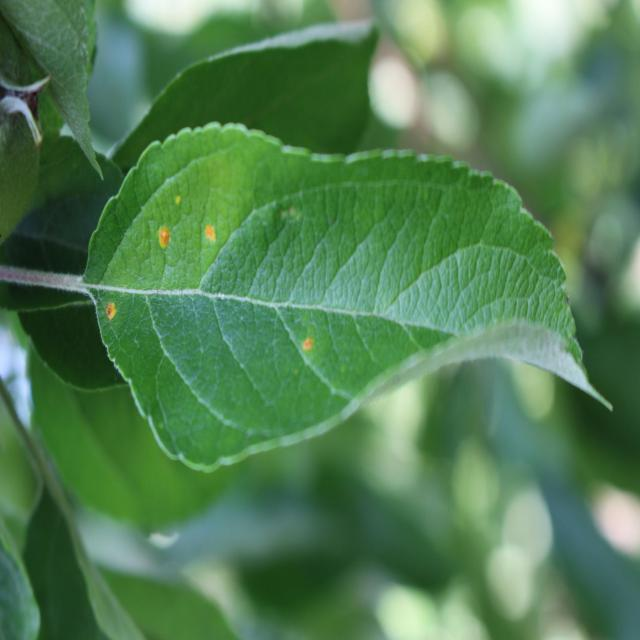Rust: (195, 210, 236, 267), (287, 318, 327, 376), (97, 291, 137, 345), (142, 212, 183, 264)
